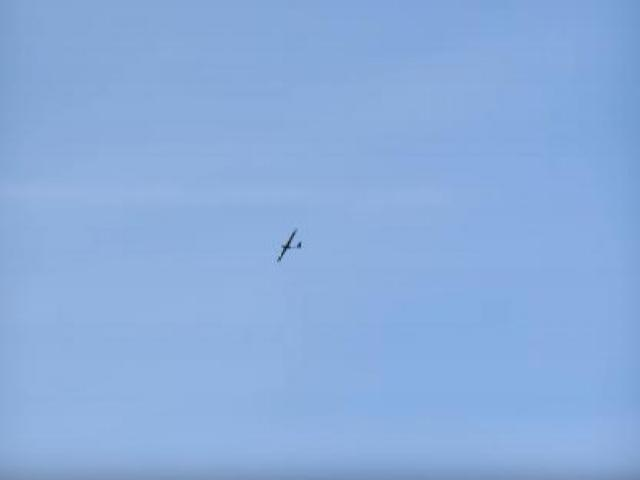uav: (275, 225, 303, 264)
